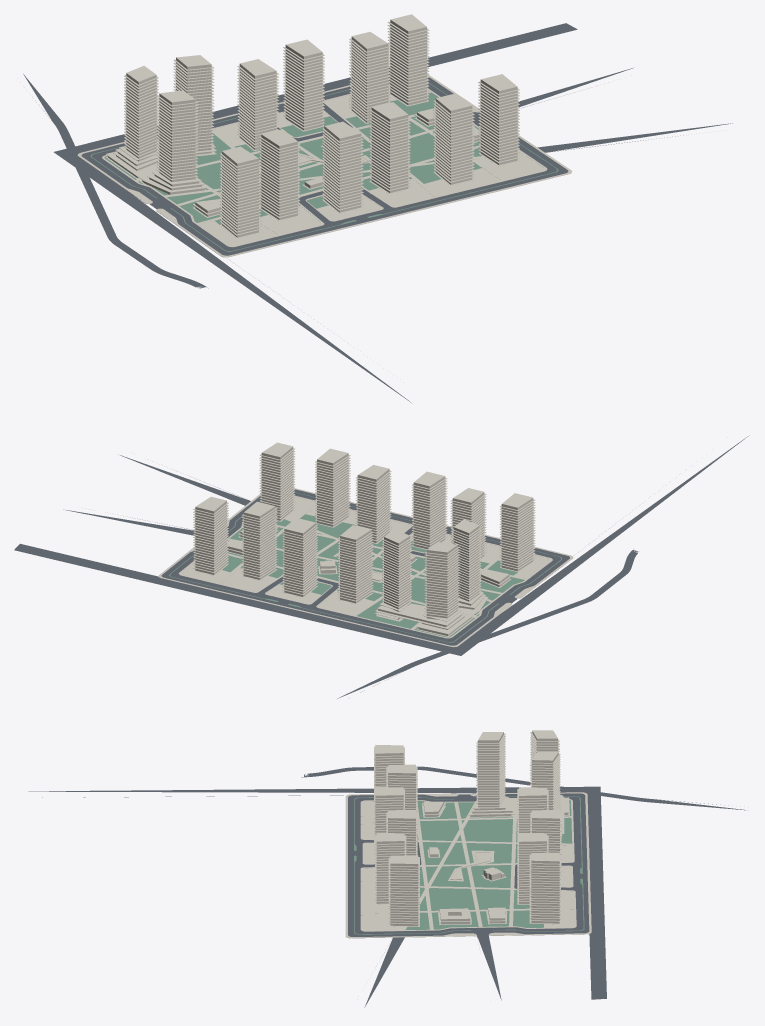
Rendered from al-sadr-towers.glb.
The picture shows the model from 3 angles, top to bottom: view 1: azimuth 30°, elevation 25°; view 2: azimuth 150°, elevation 25°; view 3: azimuth 270°, elevation 25°; orthographic projection. The views are drawn at different scales.
Parts seen in each view (by area): view 1: stone, ground, green; view 2: stone, ground, green; view 3: stone, ground, green.
Part boxes in pixels (box(x1,y1,x2,y2)): stone: box(77, 14, 572, 257); ground: box(23, 23, 732, 402); green: box(90, 83, 558, 251); stone: box(158, 442, 573, 647); ground: box(14, 435, 749, 698); green: box(169, 492, 561, 642); stone: box(345, 730, 591, 938); ground: box(28, 766, 745, 1007); green: box(354, 796, 584, 934).
Size of the model in its own units: 168 by 23.97 by 214.
